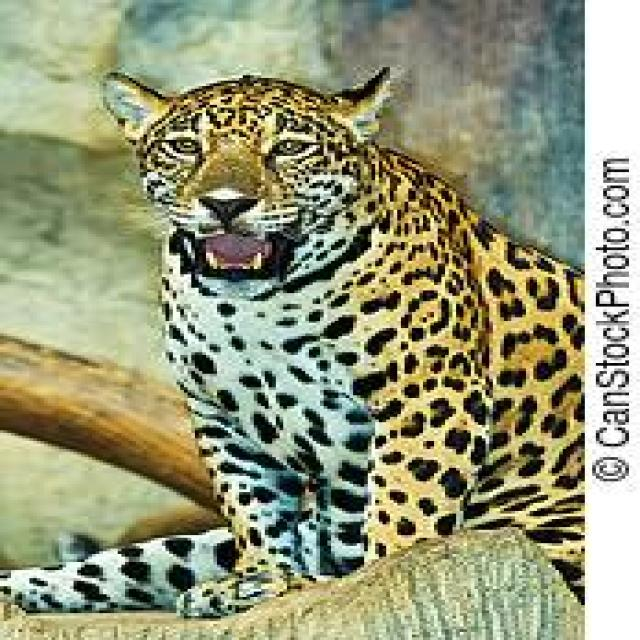Jaguar: (103, 65, 588, 594)
